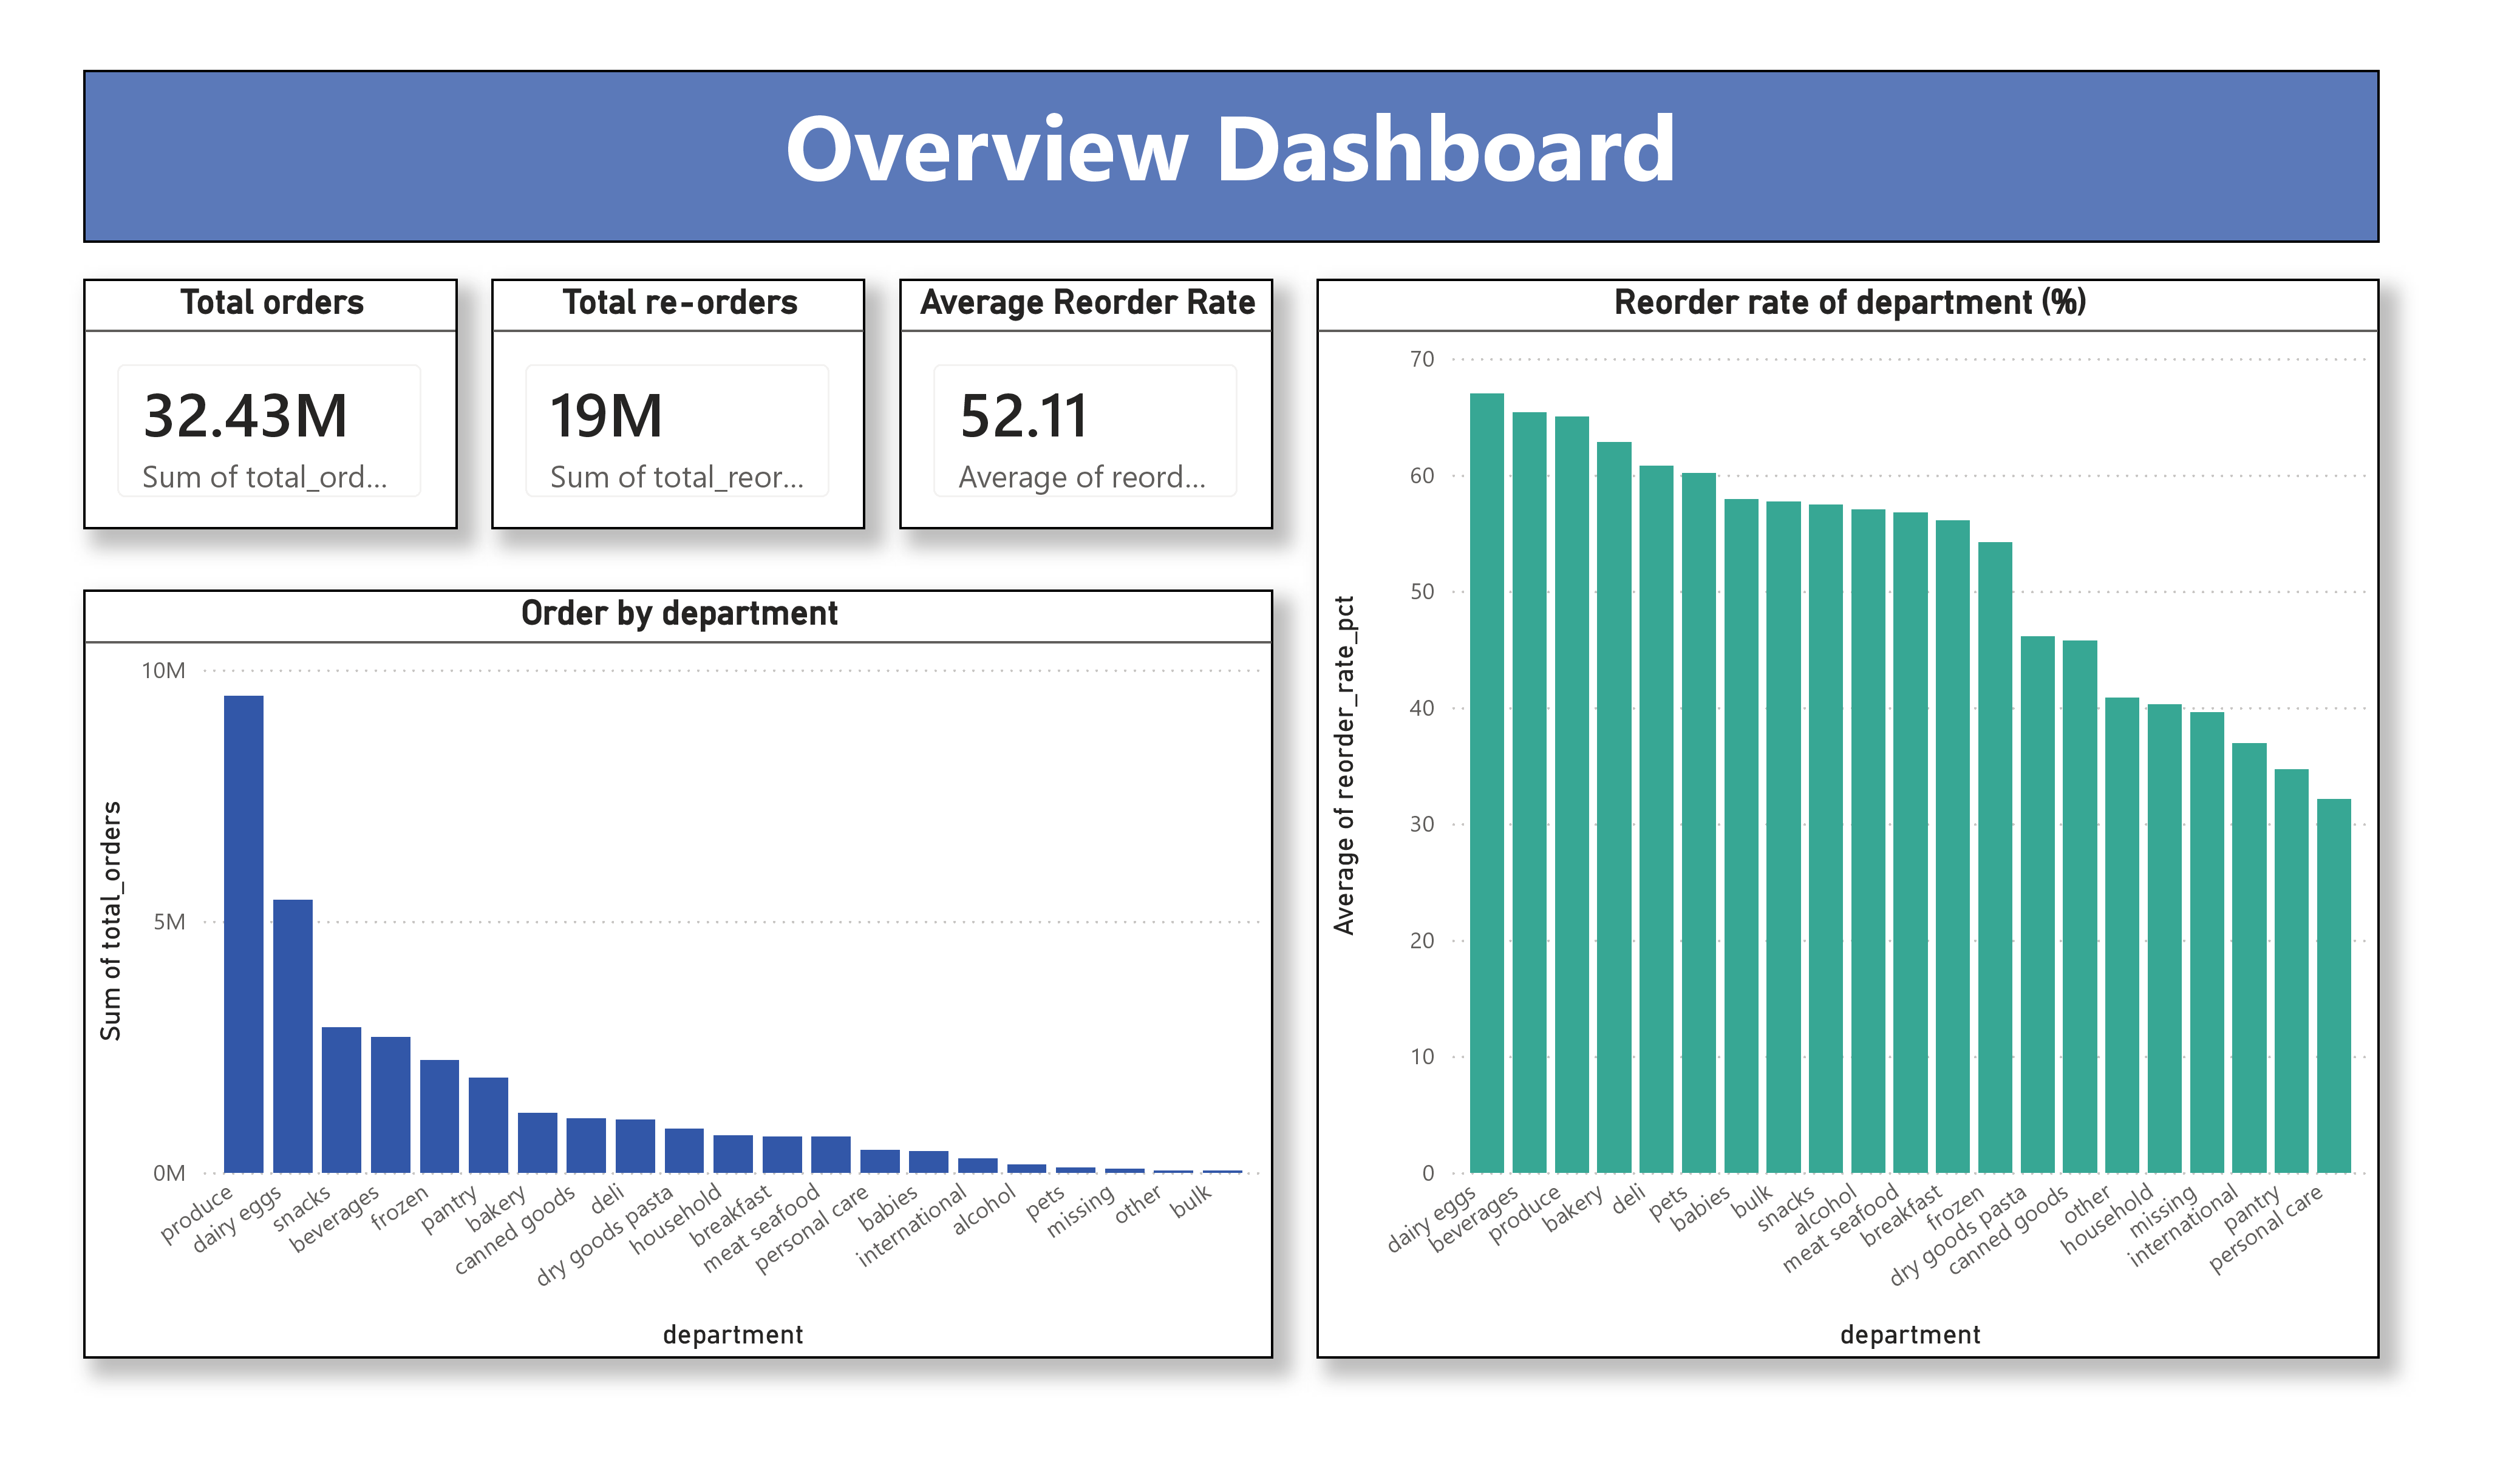

The page's visual inventory and layout, read from the dashboard file:
{"tool":"powerbi","page":{"name":"Overview","canvas":[1280,720],"ordinal":0},"visuals":[{"type":"columnChart","title":"Order by department","fields":{"Category":["department_analysis.department"],"Y":["Sum(department_analysis.total_orders)"]},"box":[20.2,287.2,626.6,404.8],"z":0},{"type":"columnChart","title":"Reorder rate of department (%)","fields":{"Y":["Avg(department_analysis.reorder_rate_pct)"],"Category":["department_analysis.department"]},"box":[670.2,122.6,559.4,569.4],"z":1000},{"type":"textbox","box":[20.2,13.4,1209.4,90.7],"z":2000},{"type":"cardVisual","title":"Total orders","fields":{"Data":["Sum(department_analysis.total_orders)"]},"box":[20.2,122.6,196.5,132.7],"z":3000},{"type":"cardVisual","title":"Total re-orders","fields":{"Data":["Sum(department_analysis.total_reorders)"]},"box":[235.2,122.6,196.5,132.7],"z":4000},{"type":"cardVisual","title":"Average Reorder Rate","fields":{"Data":["Avg(department_analysis.reorder_rate_pct)"]},"box":[450.2,122.6,196.5,132.7],"z":5000}]}

Visuals, with their boxes on the page's 1280x720 design canvas (x1, y1, x2, y2). These are canvas units, not pixel positions in the 2520x1457 screenshot, which may show the page scaled, cropped or inside an application window:
"Order by department" columnChart: (20, 287, 647, 692)
"Reorder rate of department (%)" columnChart: (670, 123, 1230, 692)
textbox: (20, 13, 1230, 104)
"Total orders" cardVisual: (20, 123, 217, 255)
"Total re-orders" cardVisual: (235, 123, 432, 255)
"Average Reorder Rate" cardVisual: (450, 123, 647, 255)
